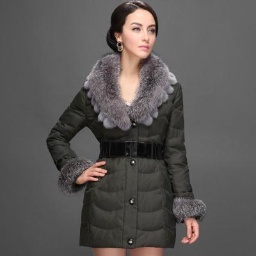face: (103, 1, 171, 68)
